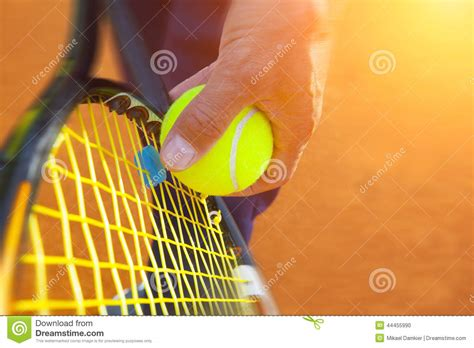tennis_ball: (159, 82, 273, 196)
